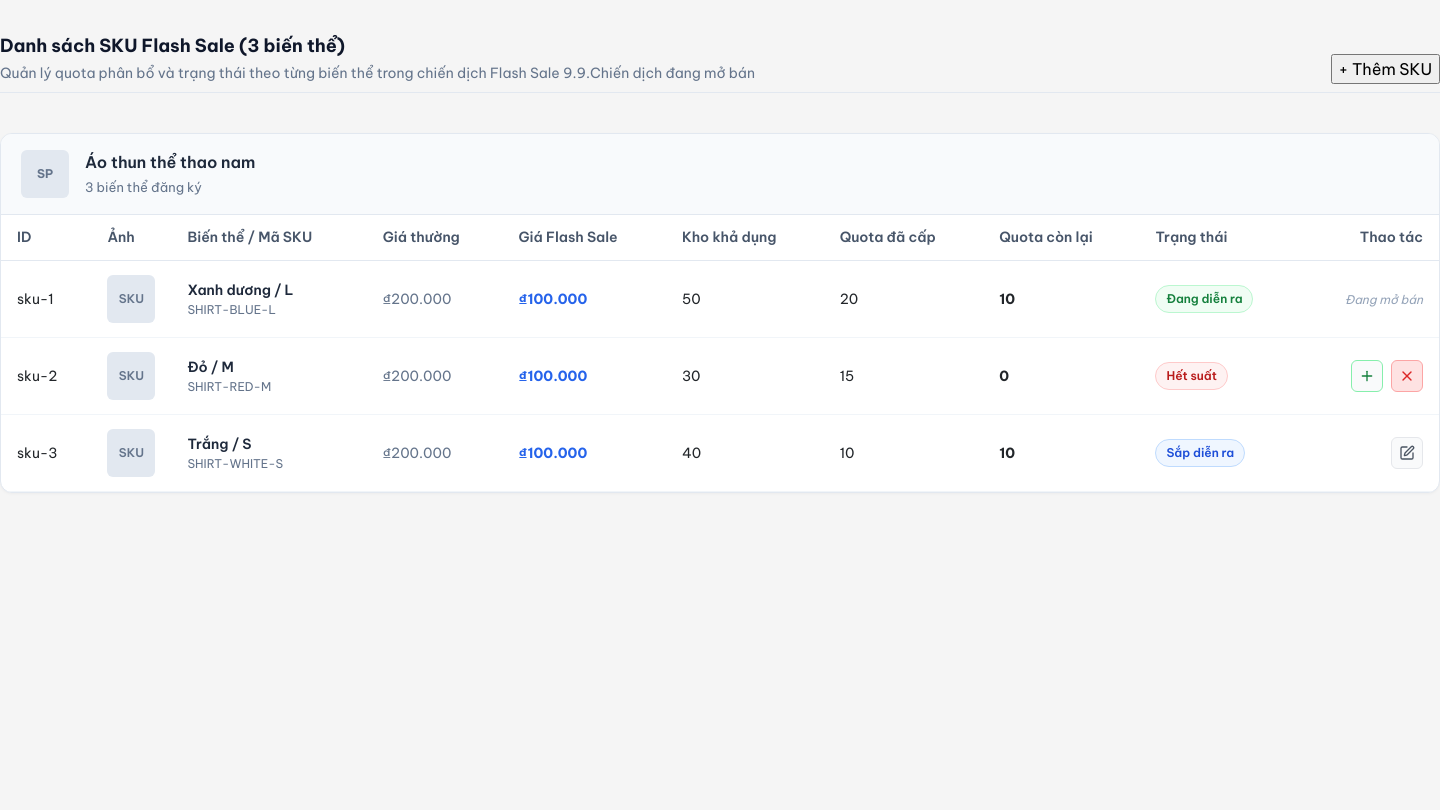
Test case: SellerFlashSaleSkuTable › opens registration modal when clicking "+ Thêm SKU"
What coordinates should you click on to do the following:
click the button "+ Thêm SKU"
I would click on:
 (1385, 69)
Its box is [1330,54,1439,84].
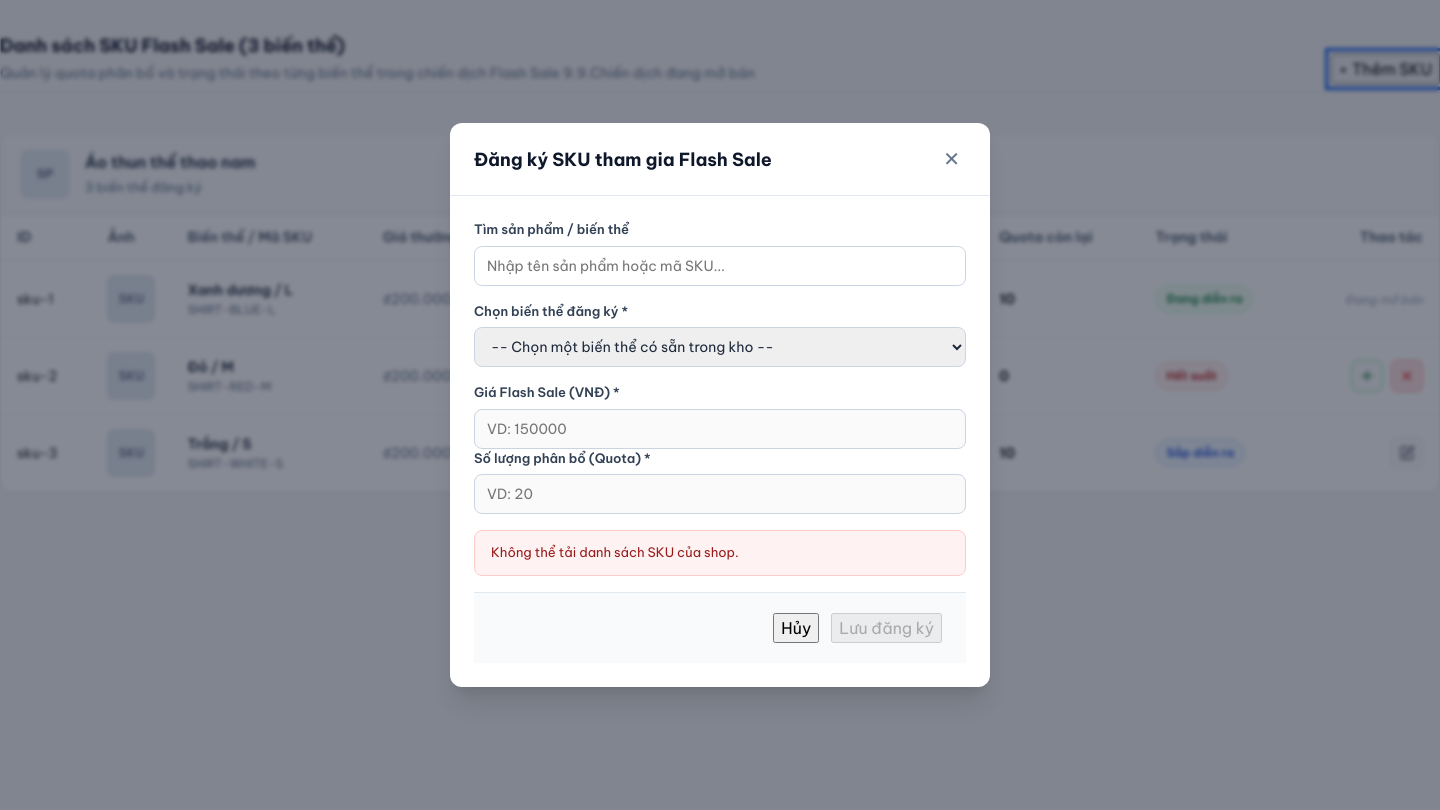
Now the dialog is shown
Now the heading "Đăng ký SKU tham gia Flash Sale" is shown, box [474,146,772,173]
